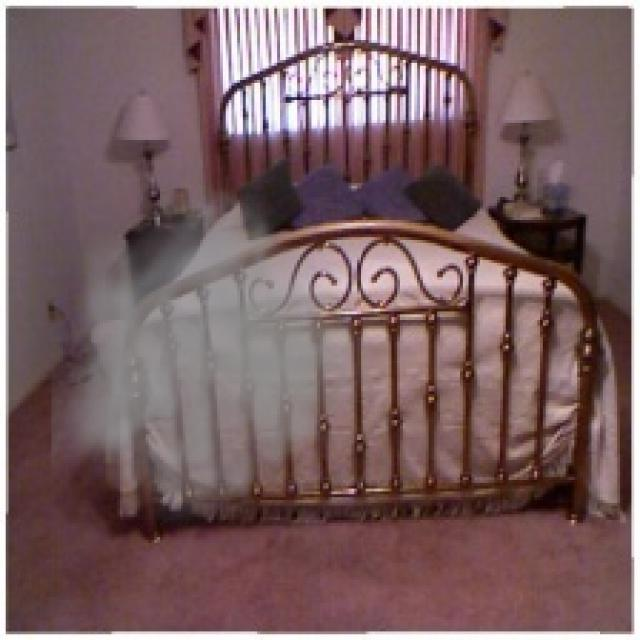smoke: (52, 171, 397, 540)
